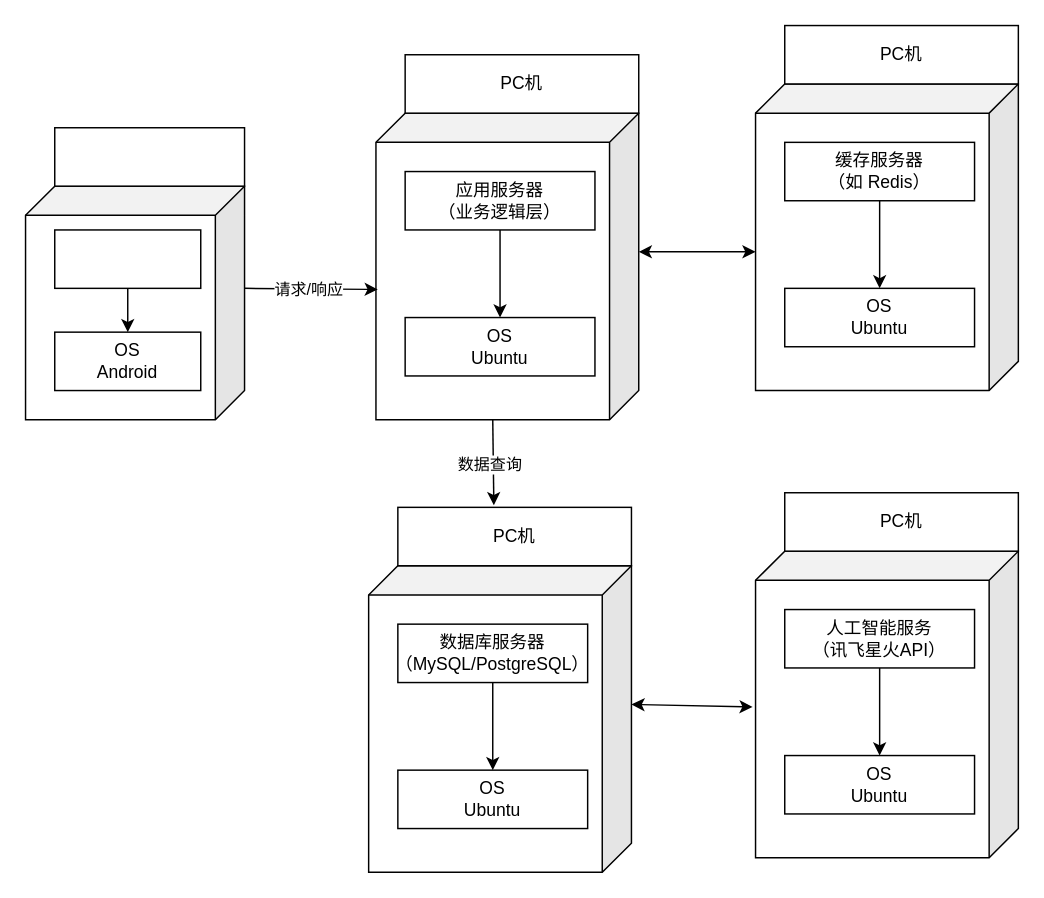
The diagram is 1044 pixels wide and 898 high, and some of its shapes have lost their labels. Each missing label, with the box of its shape:
智能手机/网页: (53, 126, 245, 186)
移动app/web前端: (53, 228, 201, 288)
